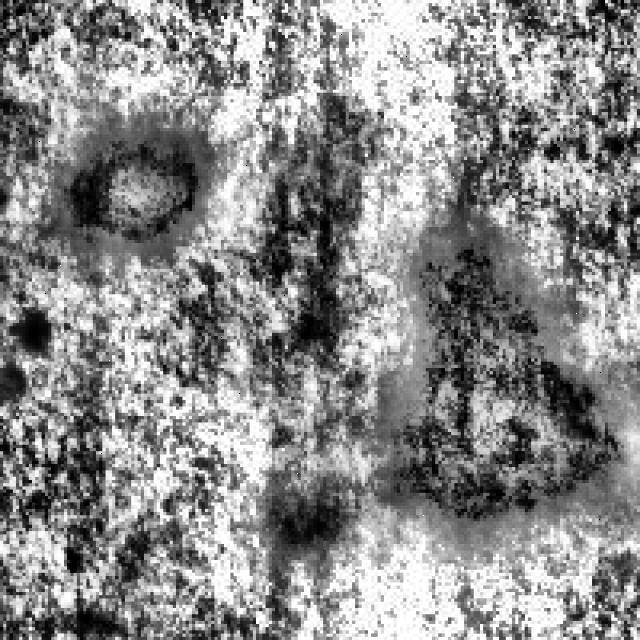Scratches: (394, 224, 630, 531), (64, 122, 211, 240)
